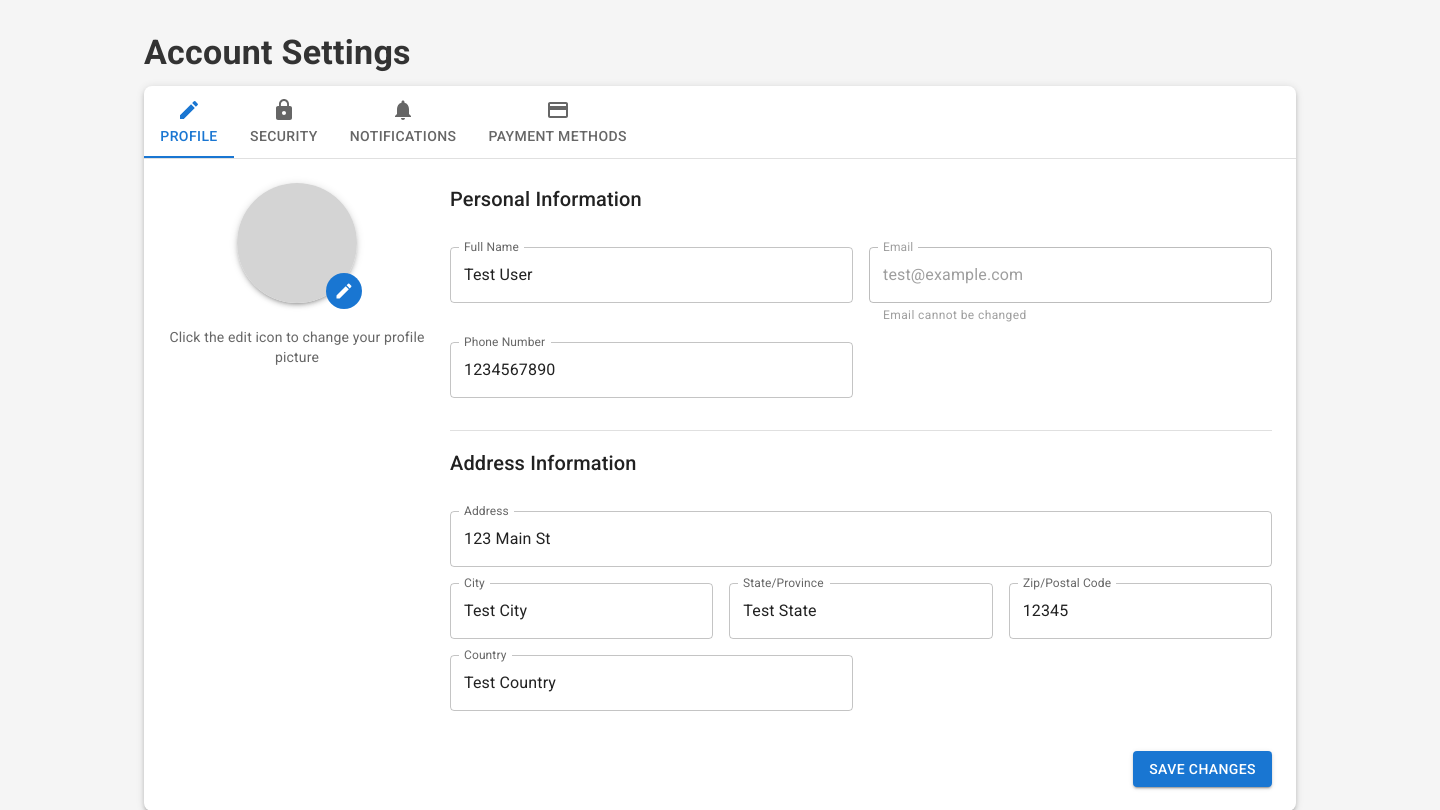
Test: AccountSettingsPage Component › shows payment methods tab
Click the tab "Payment Methods".
click(558, 122)  # box x1=472 y1=86 x2=643 y2=158
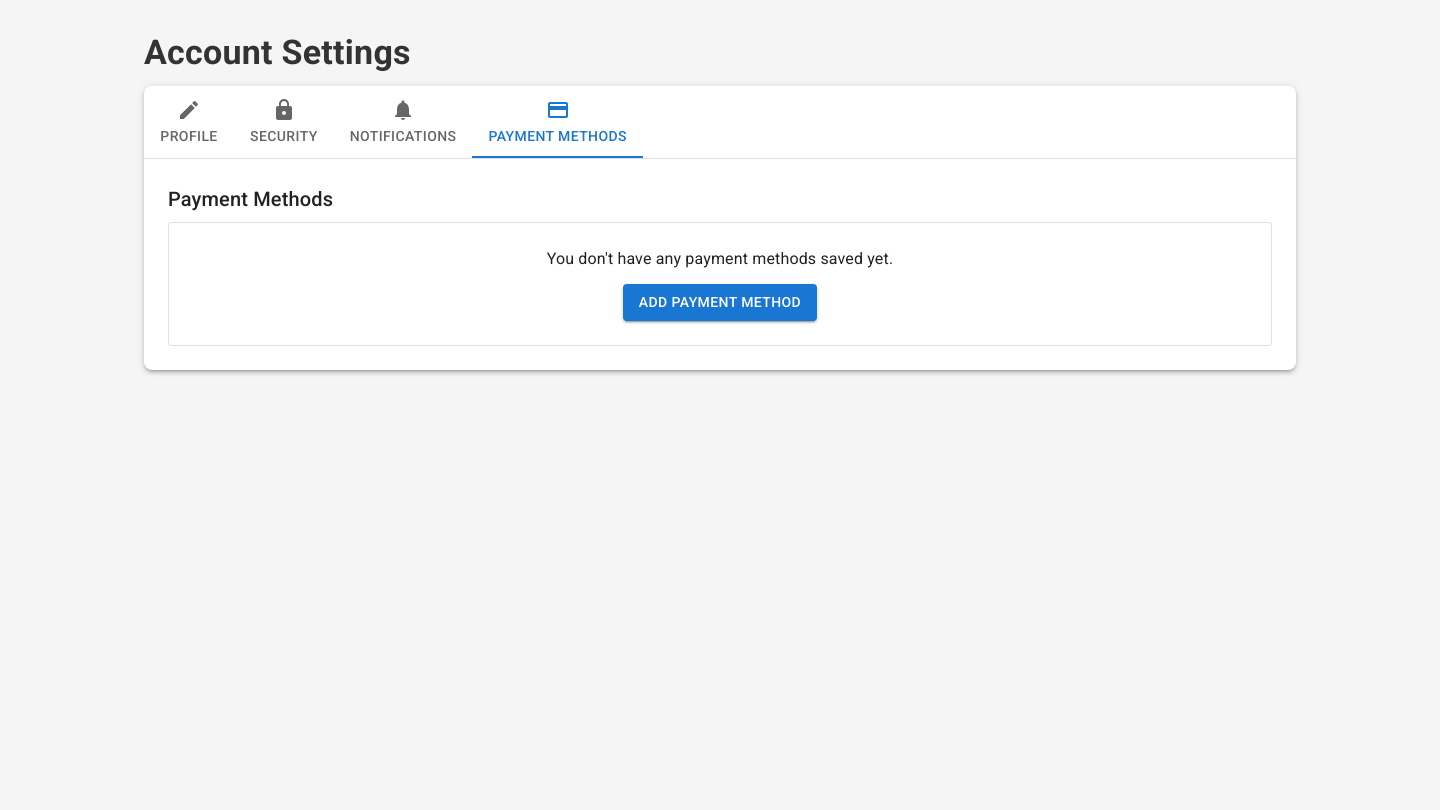
Now the text "You don't have any payment methods saved yet." is shown, box x1=547 y1=249 x2=893 y2=268
Now the button "Add Payment Method" is shown, box x1=623 y1=284 x2=817 y2=321
